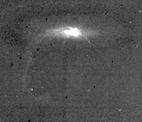Halpha: (15, 25, 61, 109), (80, 33, 97, 50), (59, 39, 72, 50)
